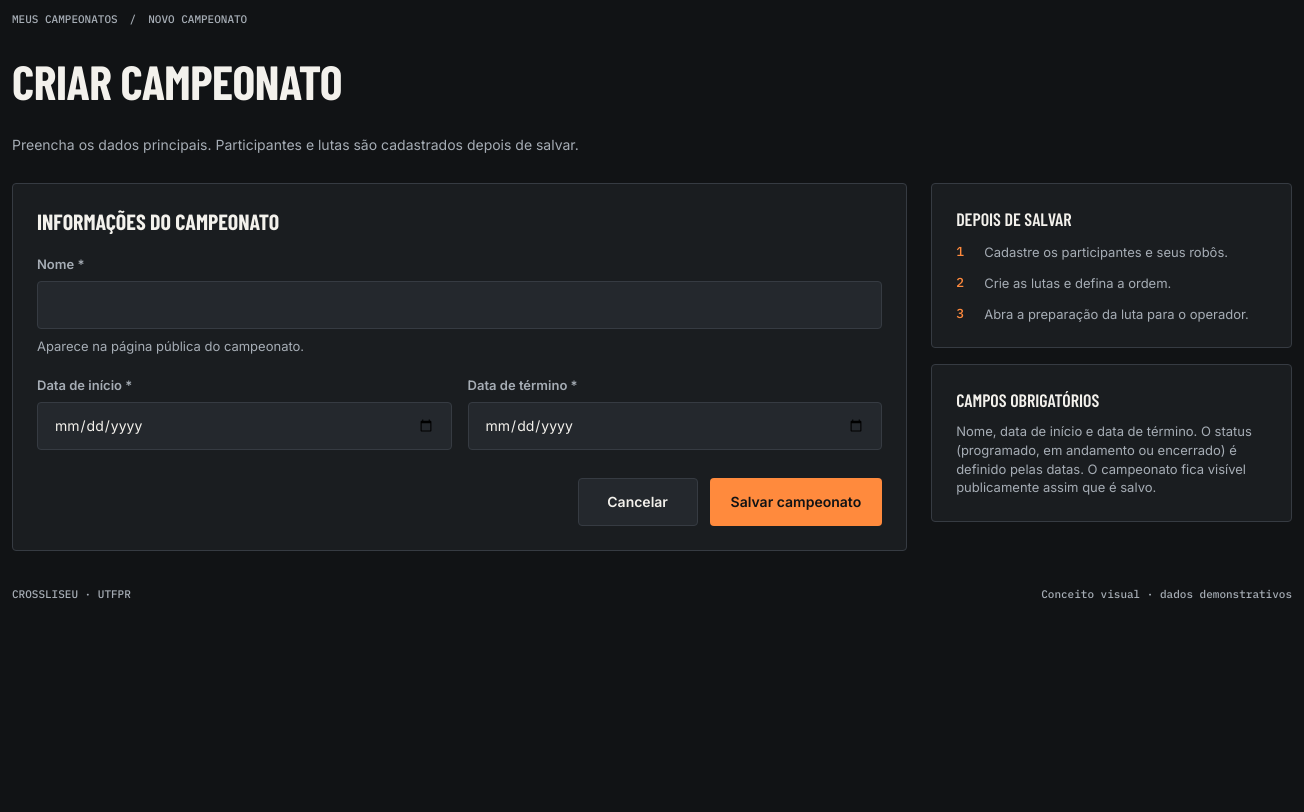
Test: ChampionshipFormView › maps an API 400 to the banner and the field error
The width and height of the screenshot is (1304, 812).
In the field named "name": point(460, 305) [37,281,882,329], type "Copa"
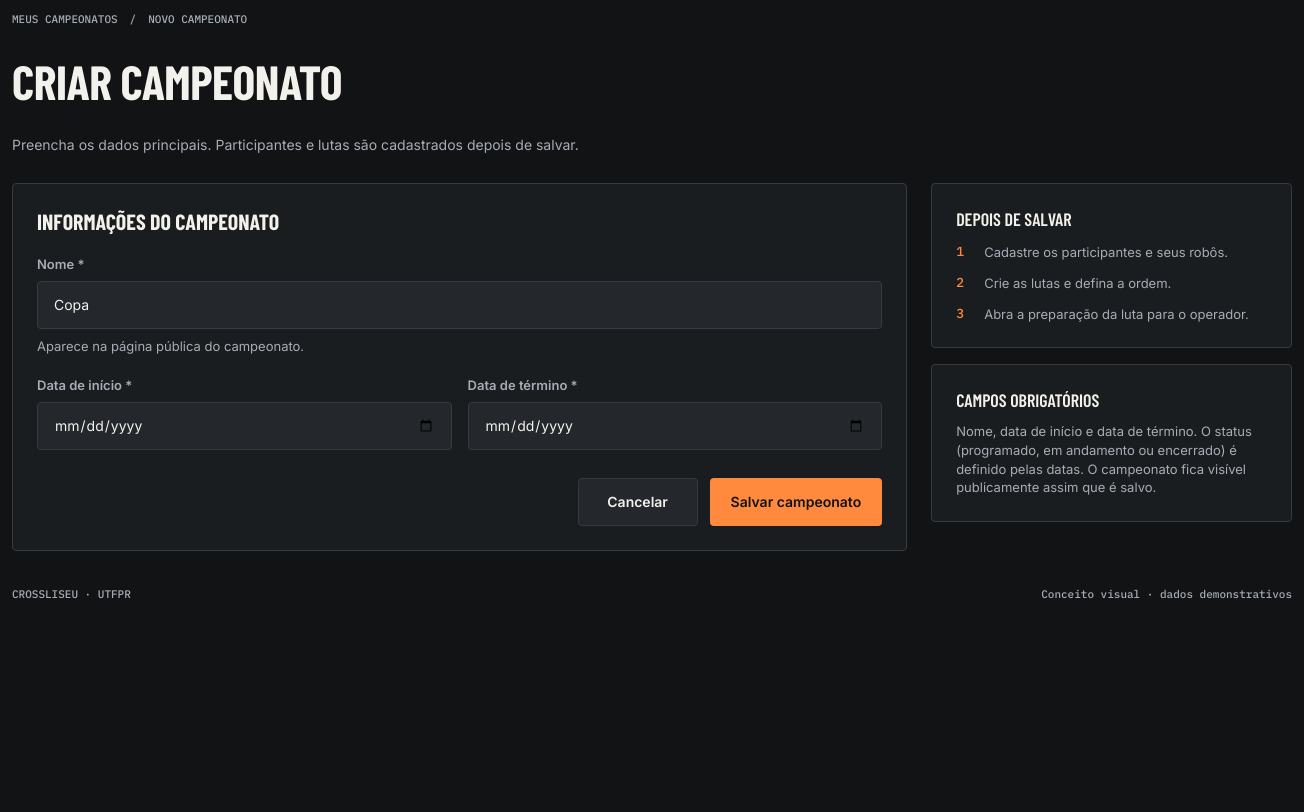
In the date field labelled "Data de início *": point(244, 426) [37,402,452,450], type "2026-12-09"
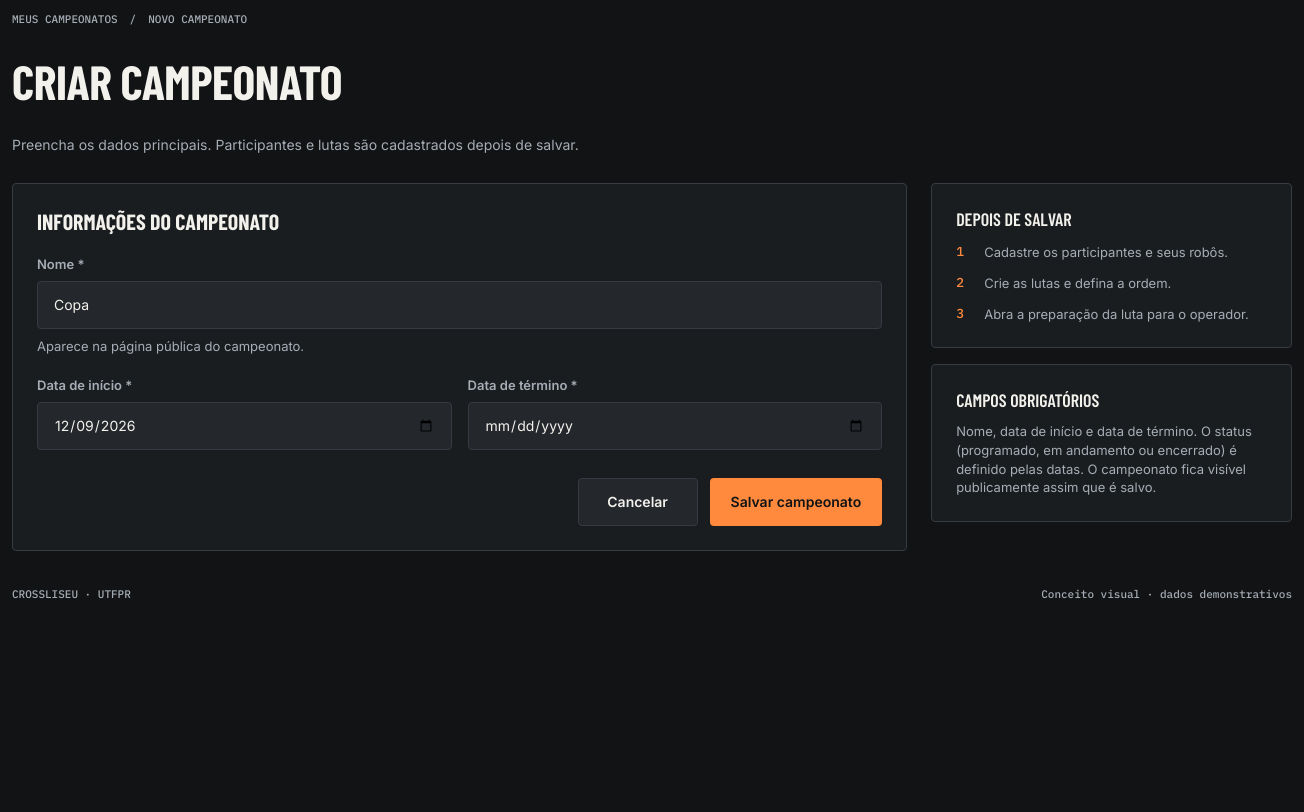
In the date field labelled "Data de término *": point(675, 426) [468,402,882,450], type "2026-12-10"
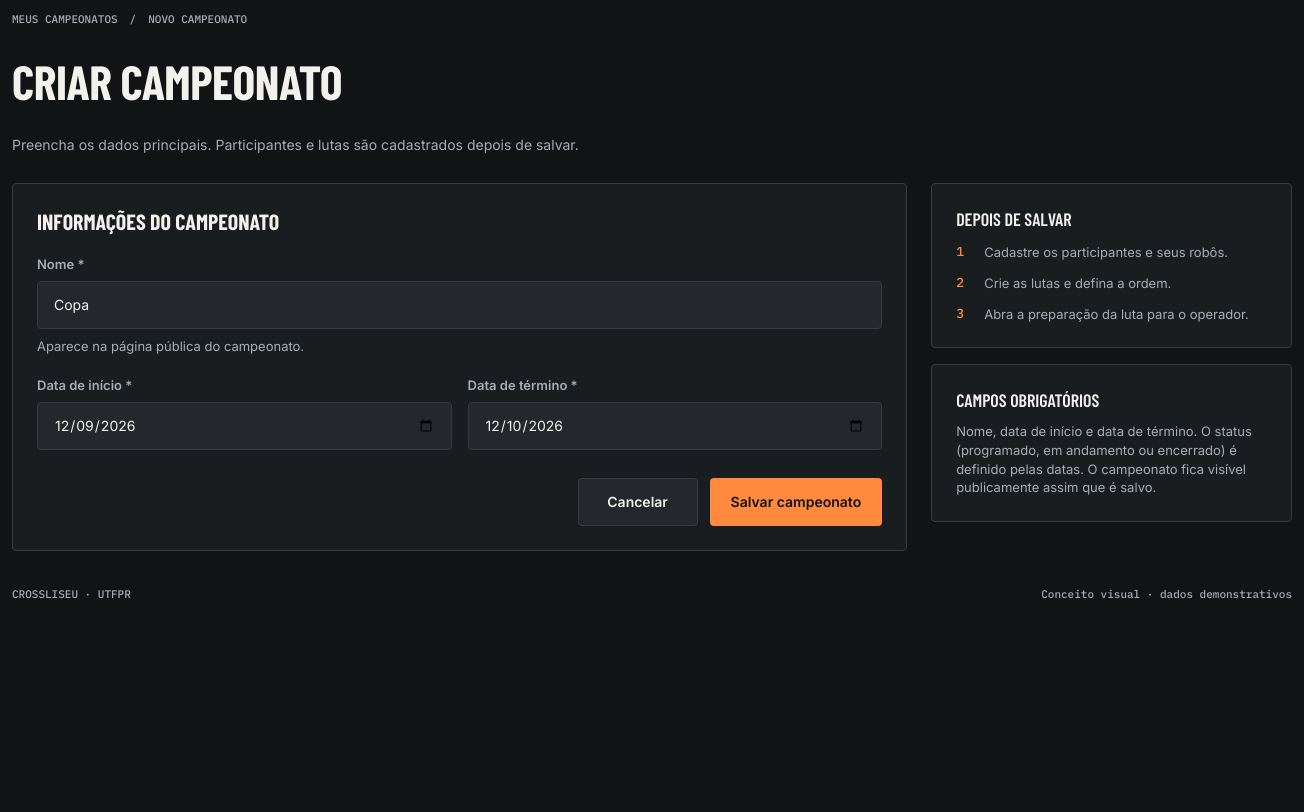
Submit the form, box [12,183,907,551]
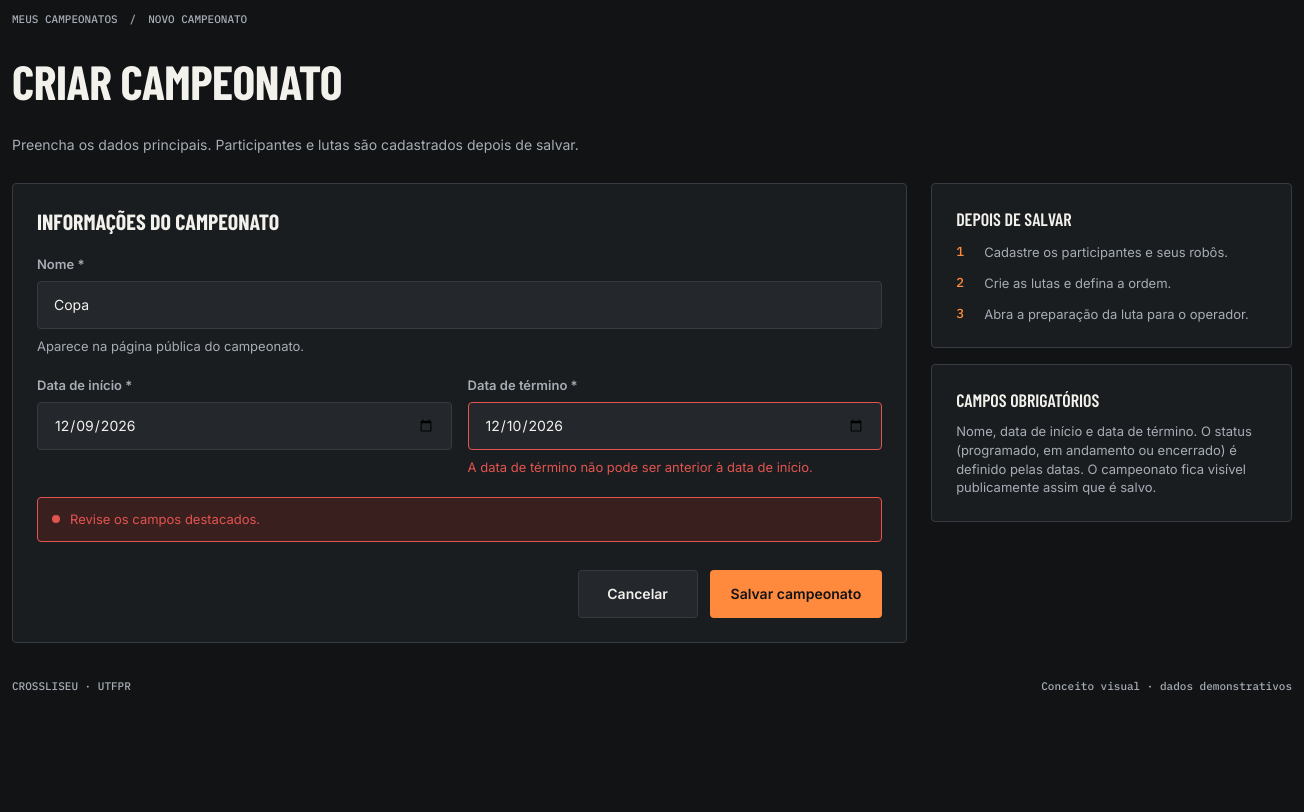
Result: the message "Revise os campos destacados." is shown at [37,497,882,542]
